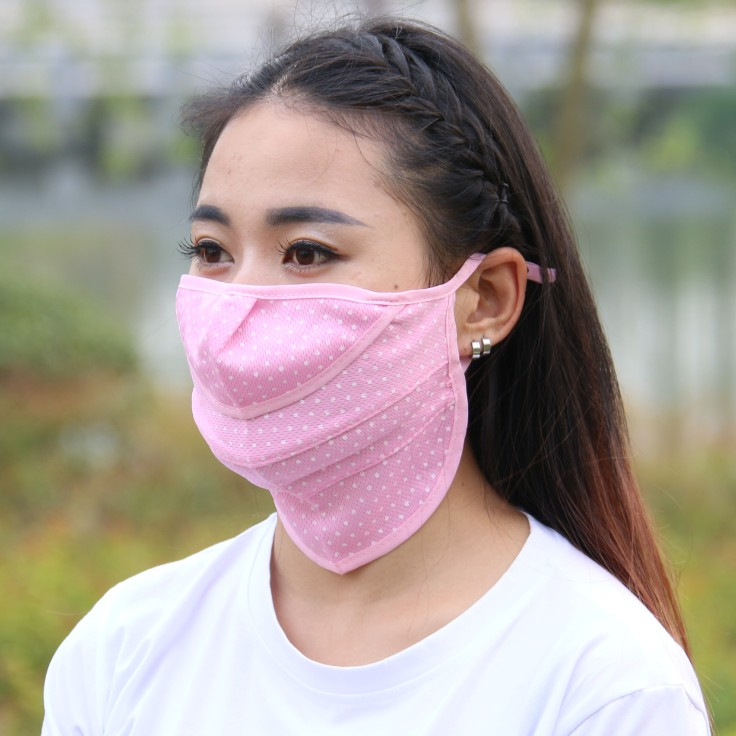face_mask: (178, 109, 442, 477)
